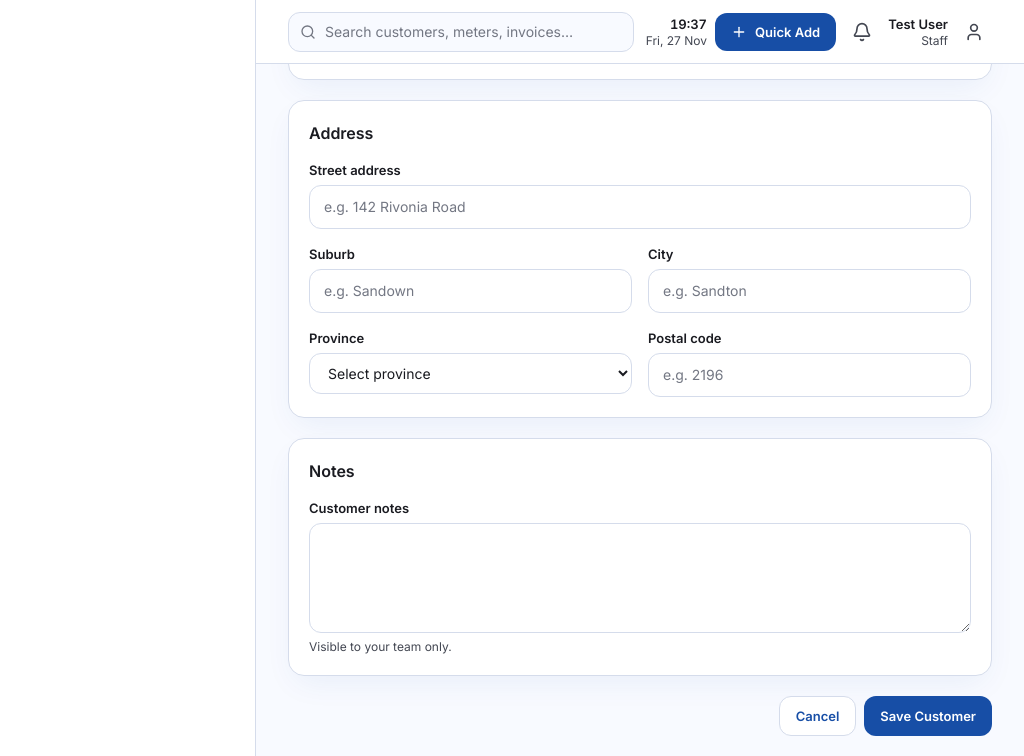
Scenario: add customer › rejects an empty form, explains each problem and focuses the first invalid field
The width and height of the screenshot is (1024, 756).
(page scrolled)
Click the button "Save Customer": (928, 716) [864,696,992,736]
(page scrolled)
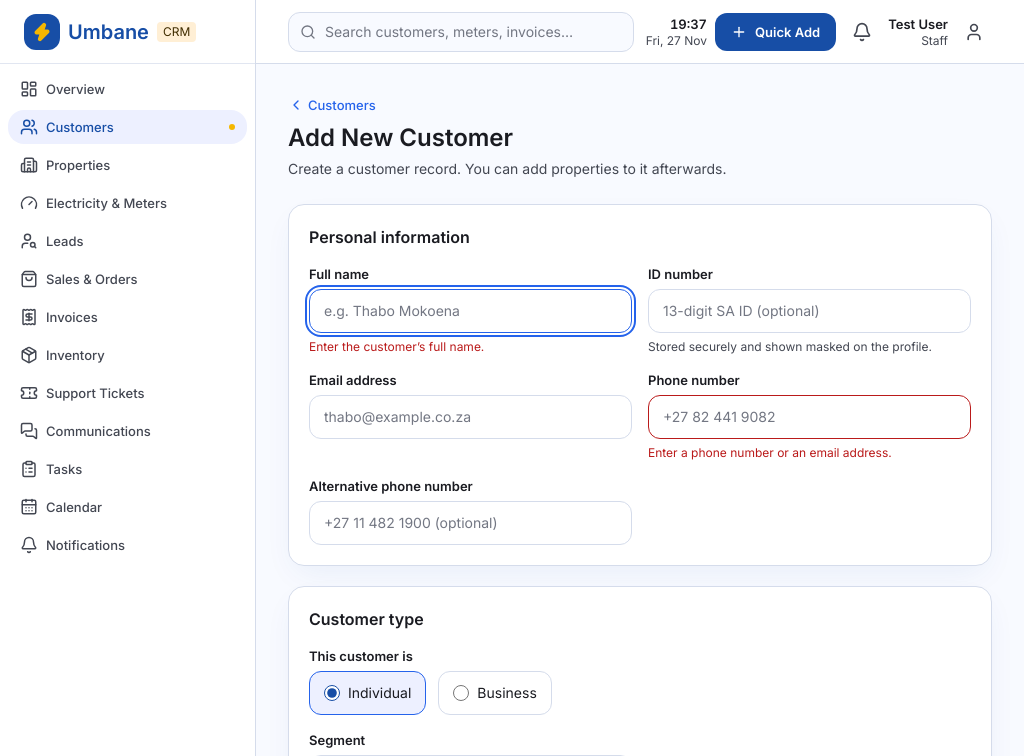
Now the text "Enter the customer’s full name." is shown, box [309,339,484,354]
Now the text "Enter a phone number or an email address." is shown, box [648,445,892,460]
